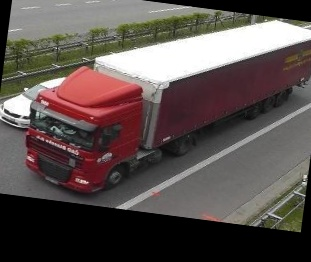car: (0, 67, 81, 137)
